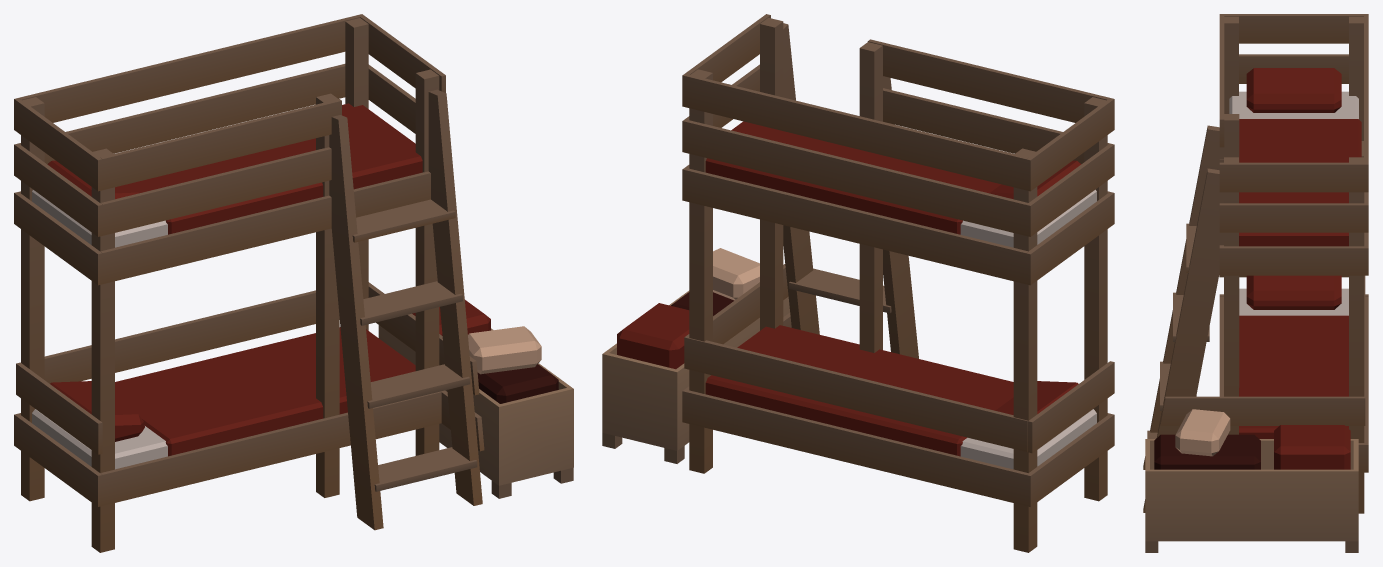
File: bunkbedred.glb
The picture shows the model from 3 angles, left to right: view 1: azimuth 30°, elevation 25°; view 2: azimuth 150°, elevation 25°; view 3: azimuth 270°, elevation 25°; orthographic projection. The views are drawn at different scales.
Visible parts, largest first — view 1: Cube.004; view 2: Cube.004; view 3: Cube.004.
Boxes of the visible parts, bbox=[...] form: Cube.004: bbox=[14, 14, 573, 552]; Cube.004: bbox=[602, 14, 1114, 552]; Cube.004: bbox=[1143, 14, 1368, 552].
Bounding box in the file's own units: 2.92 × 2.54 × 1.48.
